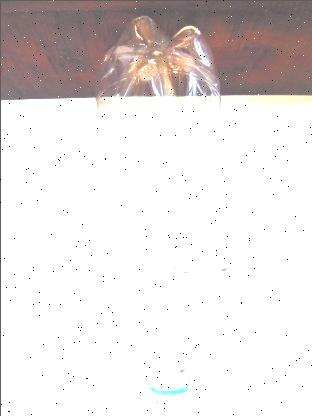Plastic Bottle: (94, 14, 234, 410)
